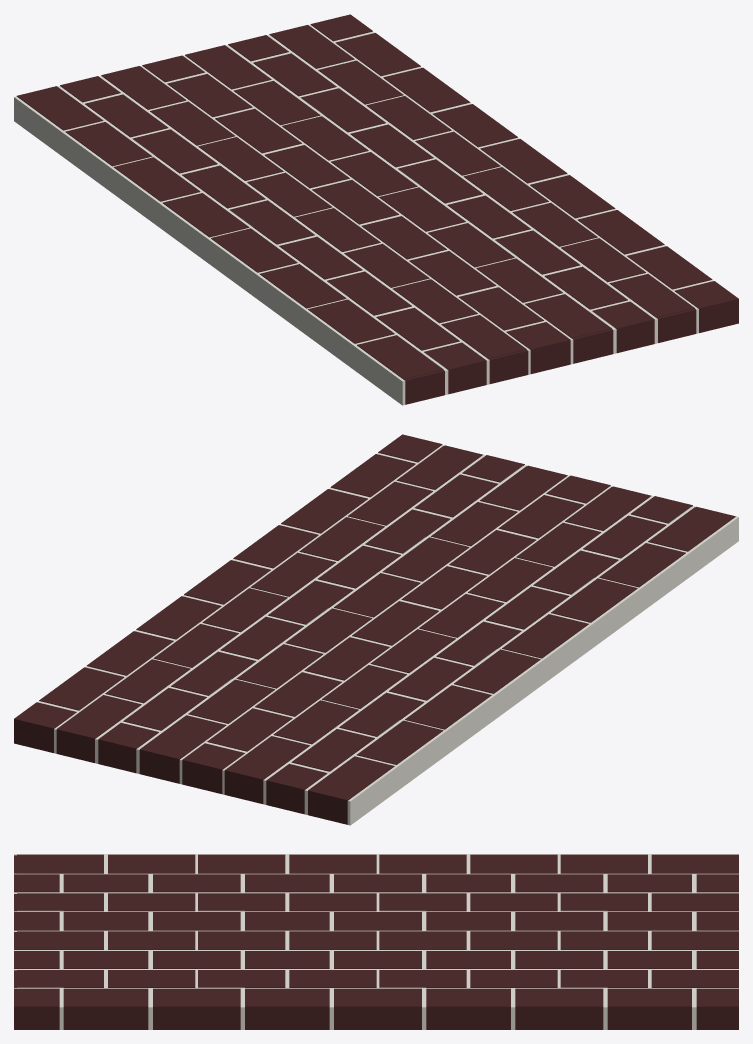
The model's file is Brick wall.fbx.
3 views of the same model, one above another, from view 1: azimuth 30°, elevation 25°; view 2: azimuth 150°, elevation 25°; view 3: azimuth 270°, elevation 25° (orthographic). The views are drawn at different scales.
Parts seen in each view (by area): view 1: pCube11; view 2: pCube11; view 3: pCube11.
Boxes of the visible parts, x1=… form: pCube11: x1=14, y1=14, x2=738, y2=405; pCube11: x1=14, y1=434, x2=738, y2=825; pCube11: x1=14, y1=854, x2=738, y2=1029.
Bounding box in the file's own units: 2.03 × 0.1428 × 4.06.
